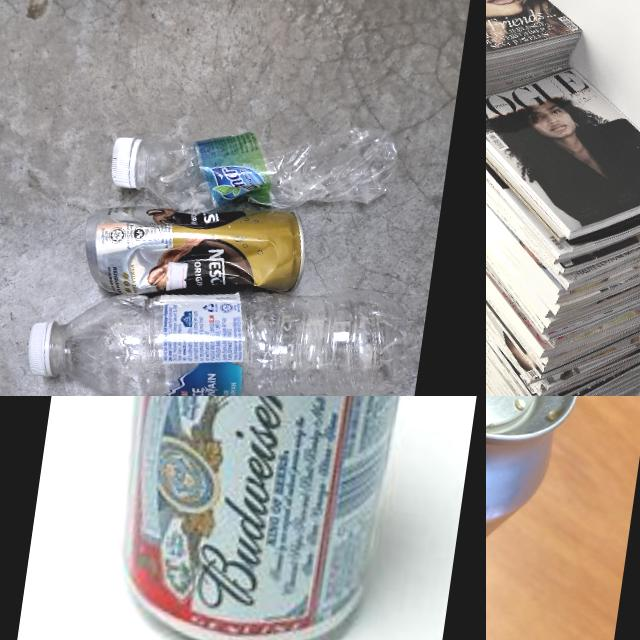garrafa plástica: (43, 250, 418, 396), (133, 97, 400, 242)
lata: (85, 396, 441, 640), (74, 186, 310, 320), (486, 396, 600, 640)
papel: (486, 0, 640, 396)
tampa plástica: (108, 136, 142, 190), (24, 320, 56, 377)
